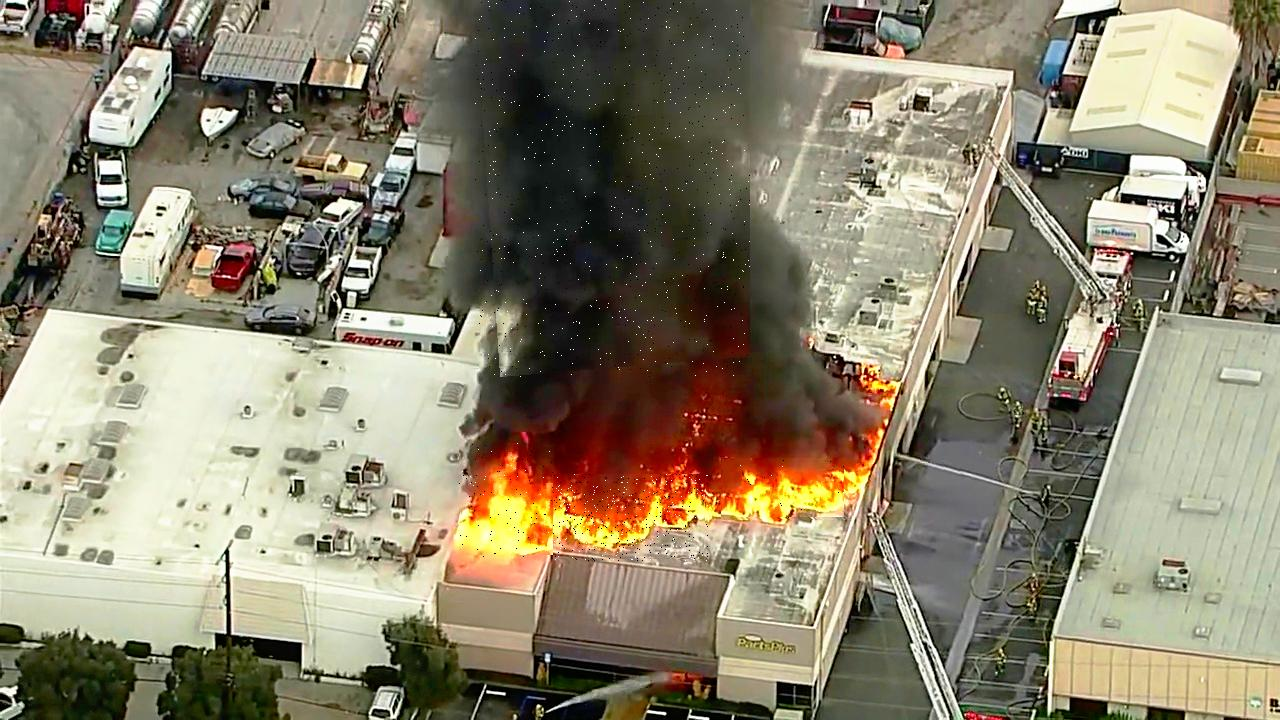fire: (475, 0, 750, 377), (554, 475, 709, 562), (459, 444, 557, 558), (722, 459, 847, 520)
